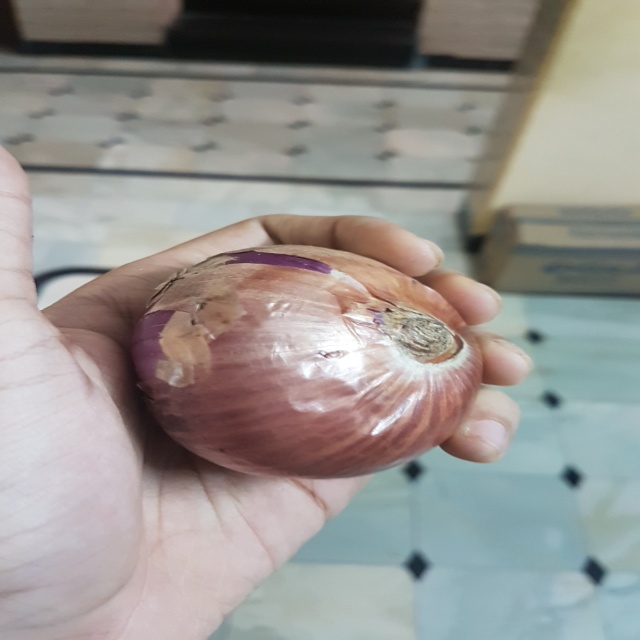onion: (111, 243, 506, 486)
